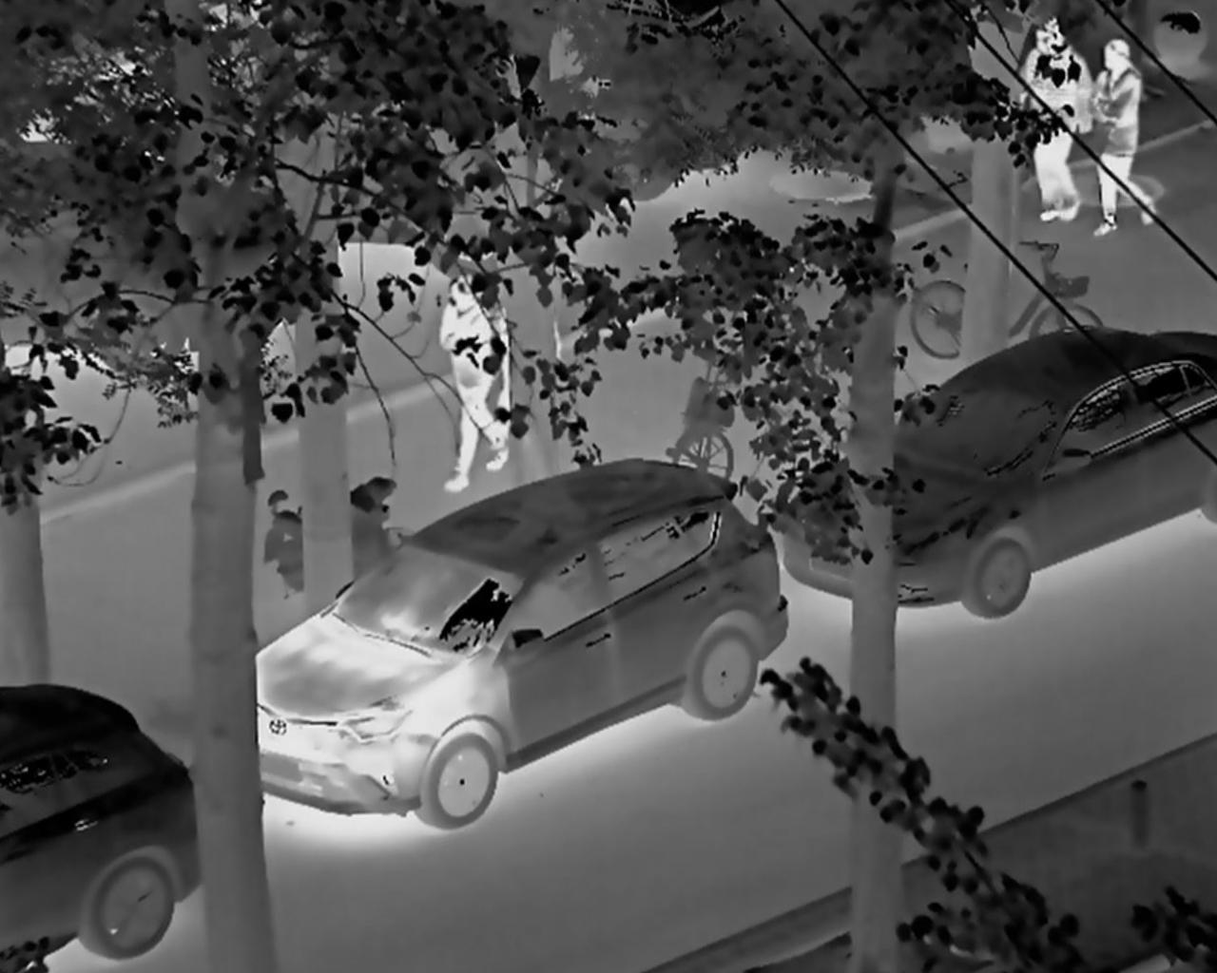person: (429, 252, 514, 494), (1018, 16, 1087, 225), (1091, 37, 1161, 242)
